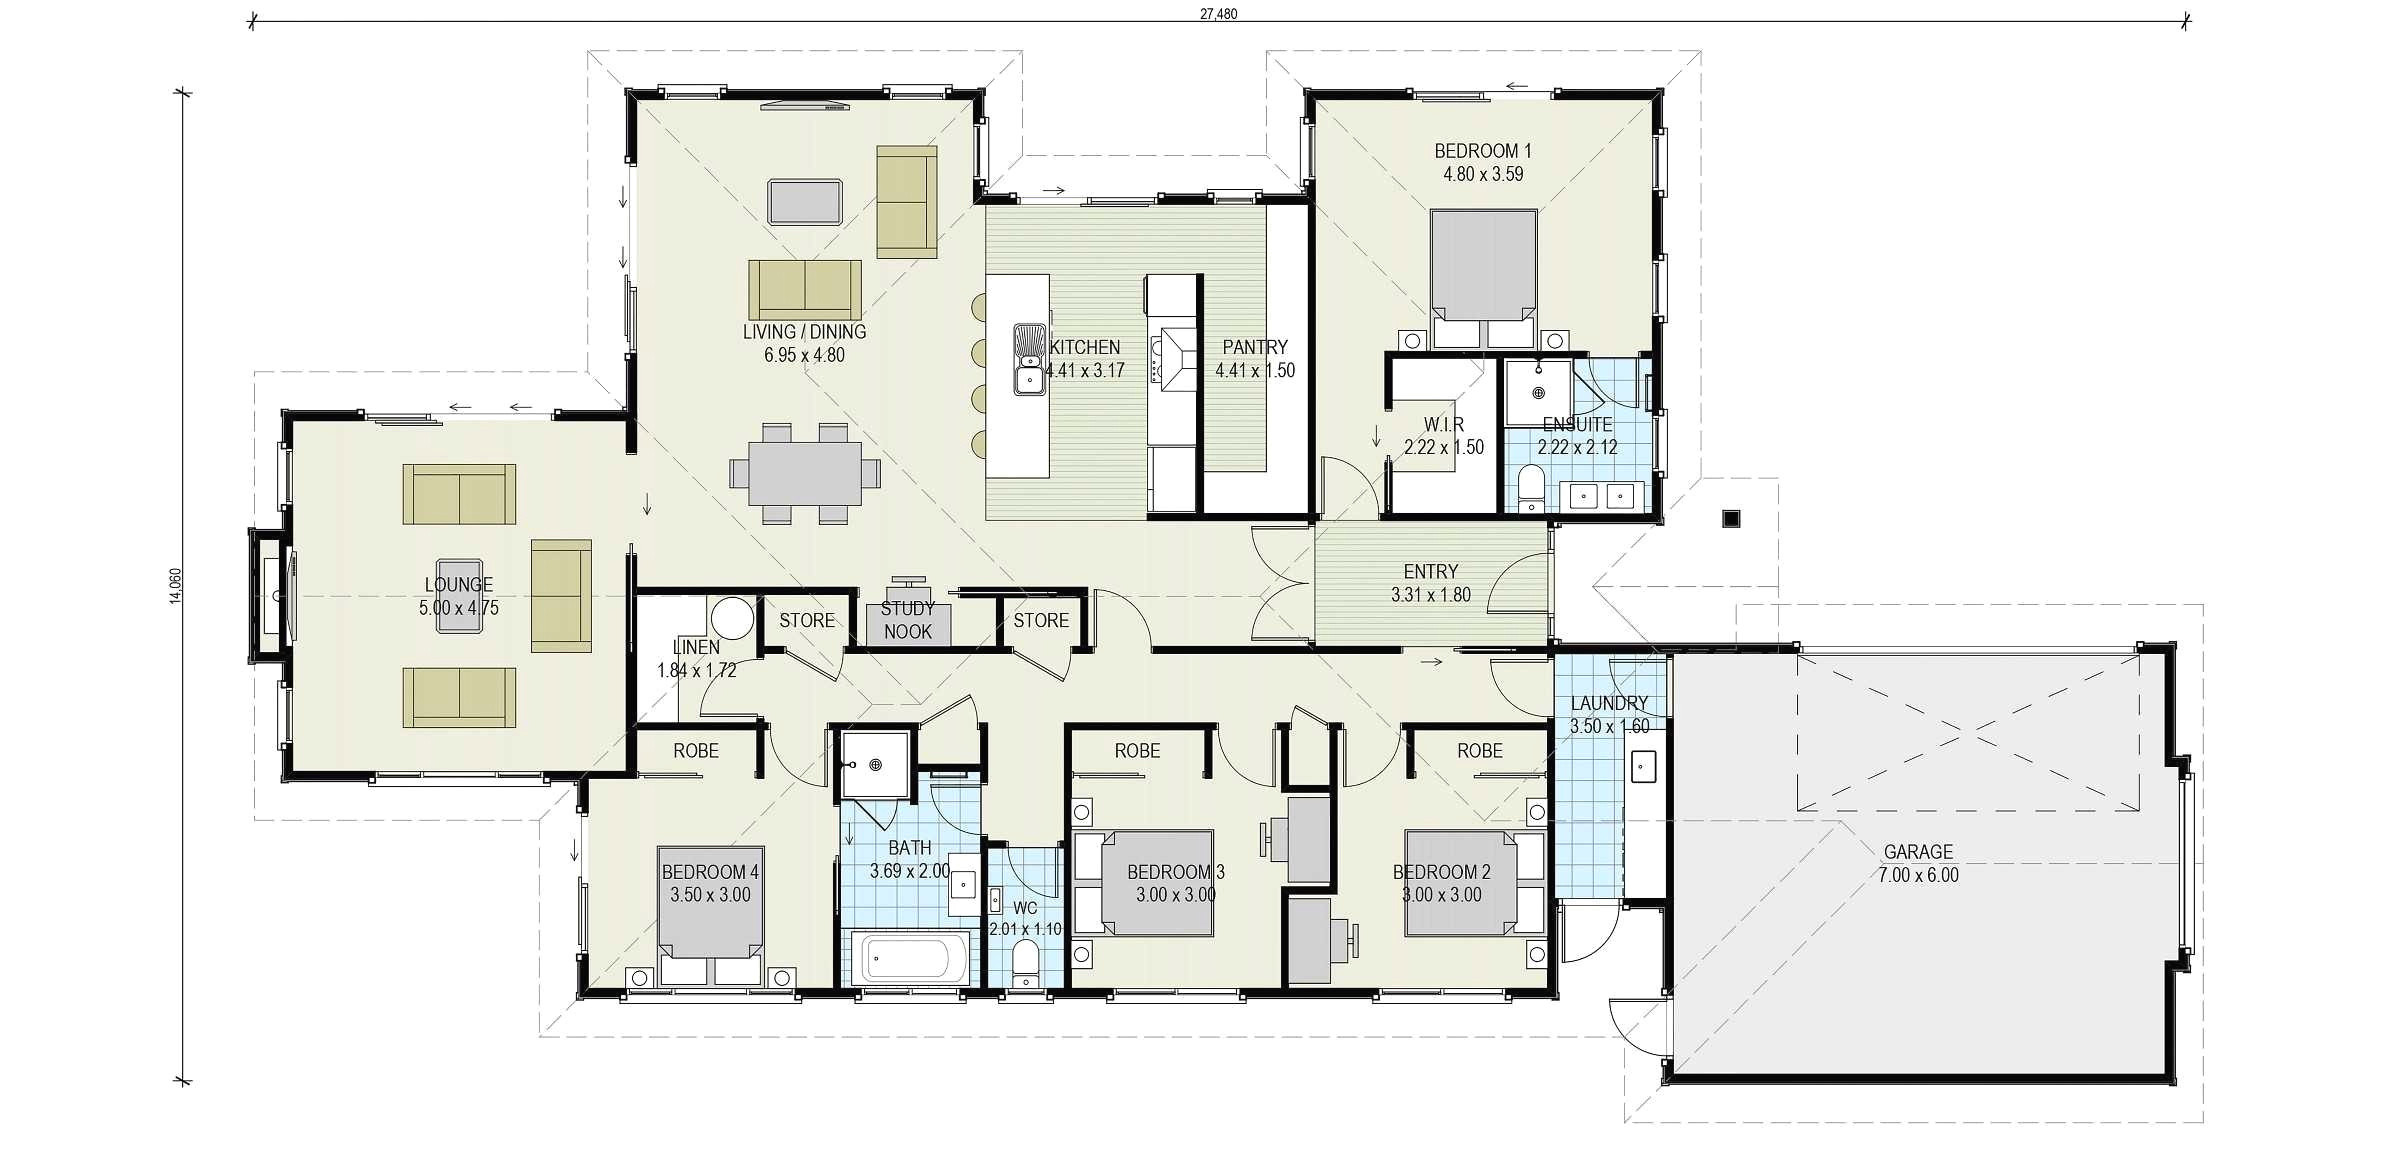door: (1485, 553, 1541, 626), (1601, 992, 1658, 1058), (1215, 740, 1278, 795), (1319, 453, 1378, 512), (770, 740, 830, 795), (1560, 916, 1616, 971), (1339, 740, 1397, 793), (1485, 654, 1537, 714), (1094, 584, 1151, 637), (928, 780, 973, 829), (1019, 853, 1061, 901)
restroom: (830, 717, 990, 1022), (1494, 345, 1670, 527), (977, 833, 1074, 1012)
room: (618, 80, 993, 611), (1304, 80, 1674, 358), (1324, 715, 1566, 1011), (1059, 718, 1301, 1012)
window: (621, 983, 799, 1009), (370, 763, 548, 789), (1013, 184, 1166, 211), (1374, 983, 1511, 1006), (1108, 985, 1243, 1008), (1642, 126, 1678, 201), (1639, 407, 1674, 481), (859, 982, 963, 1006), (1641, 254, 1673, 322), (660, 77, 729, 104), (885, 80, 954, 106), (1296, 116, 1322, 184), (967, 116, 989, 184), (1209, 182, 1261, 208), (1001, 985, 1052, 1009)
